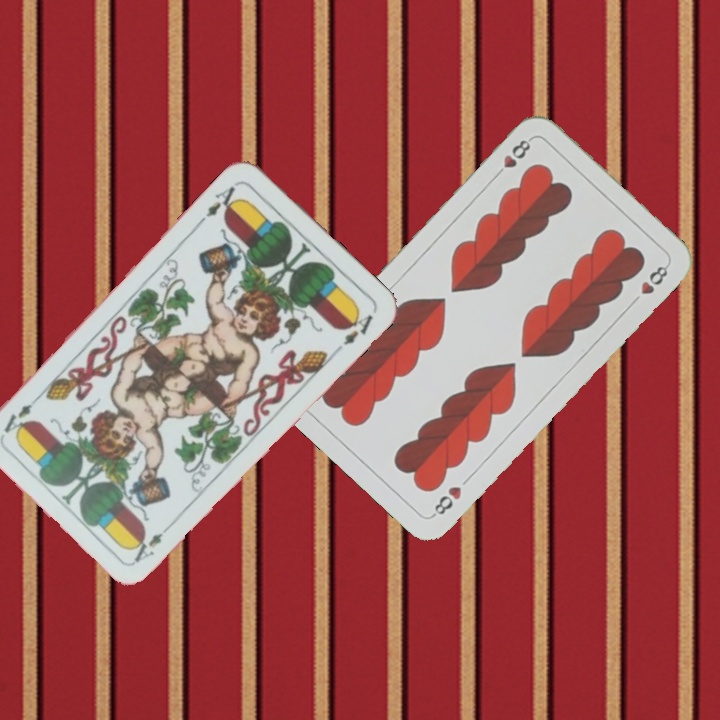EA: (127, 518, 176, 565), (196, 178, 243, 225)
H8: (490, 133, 535, 181), (427, 482, 465, 520)
